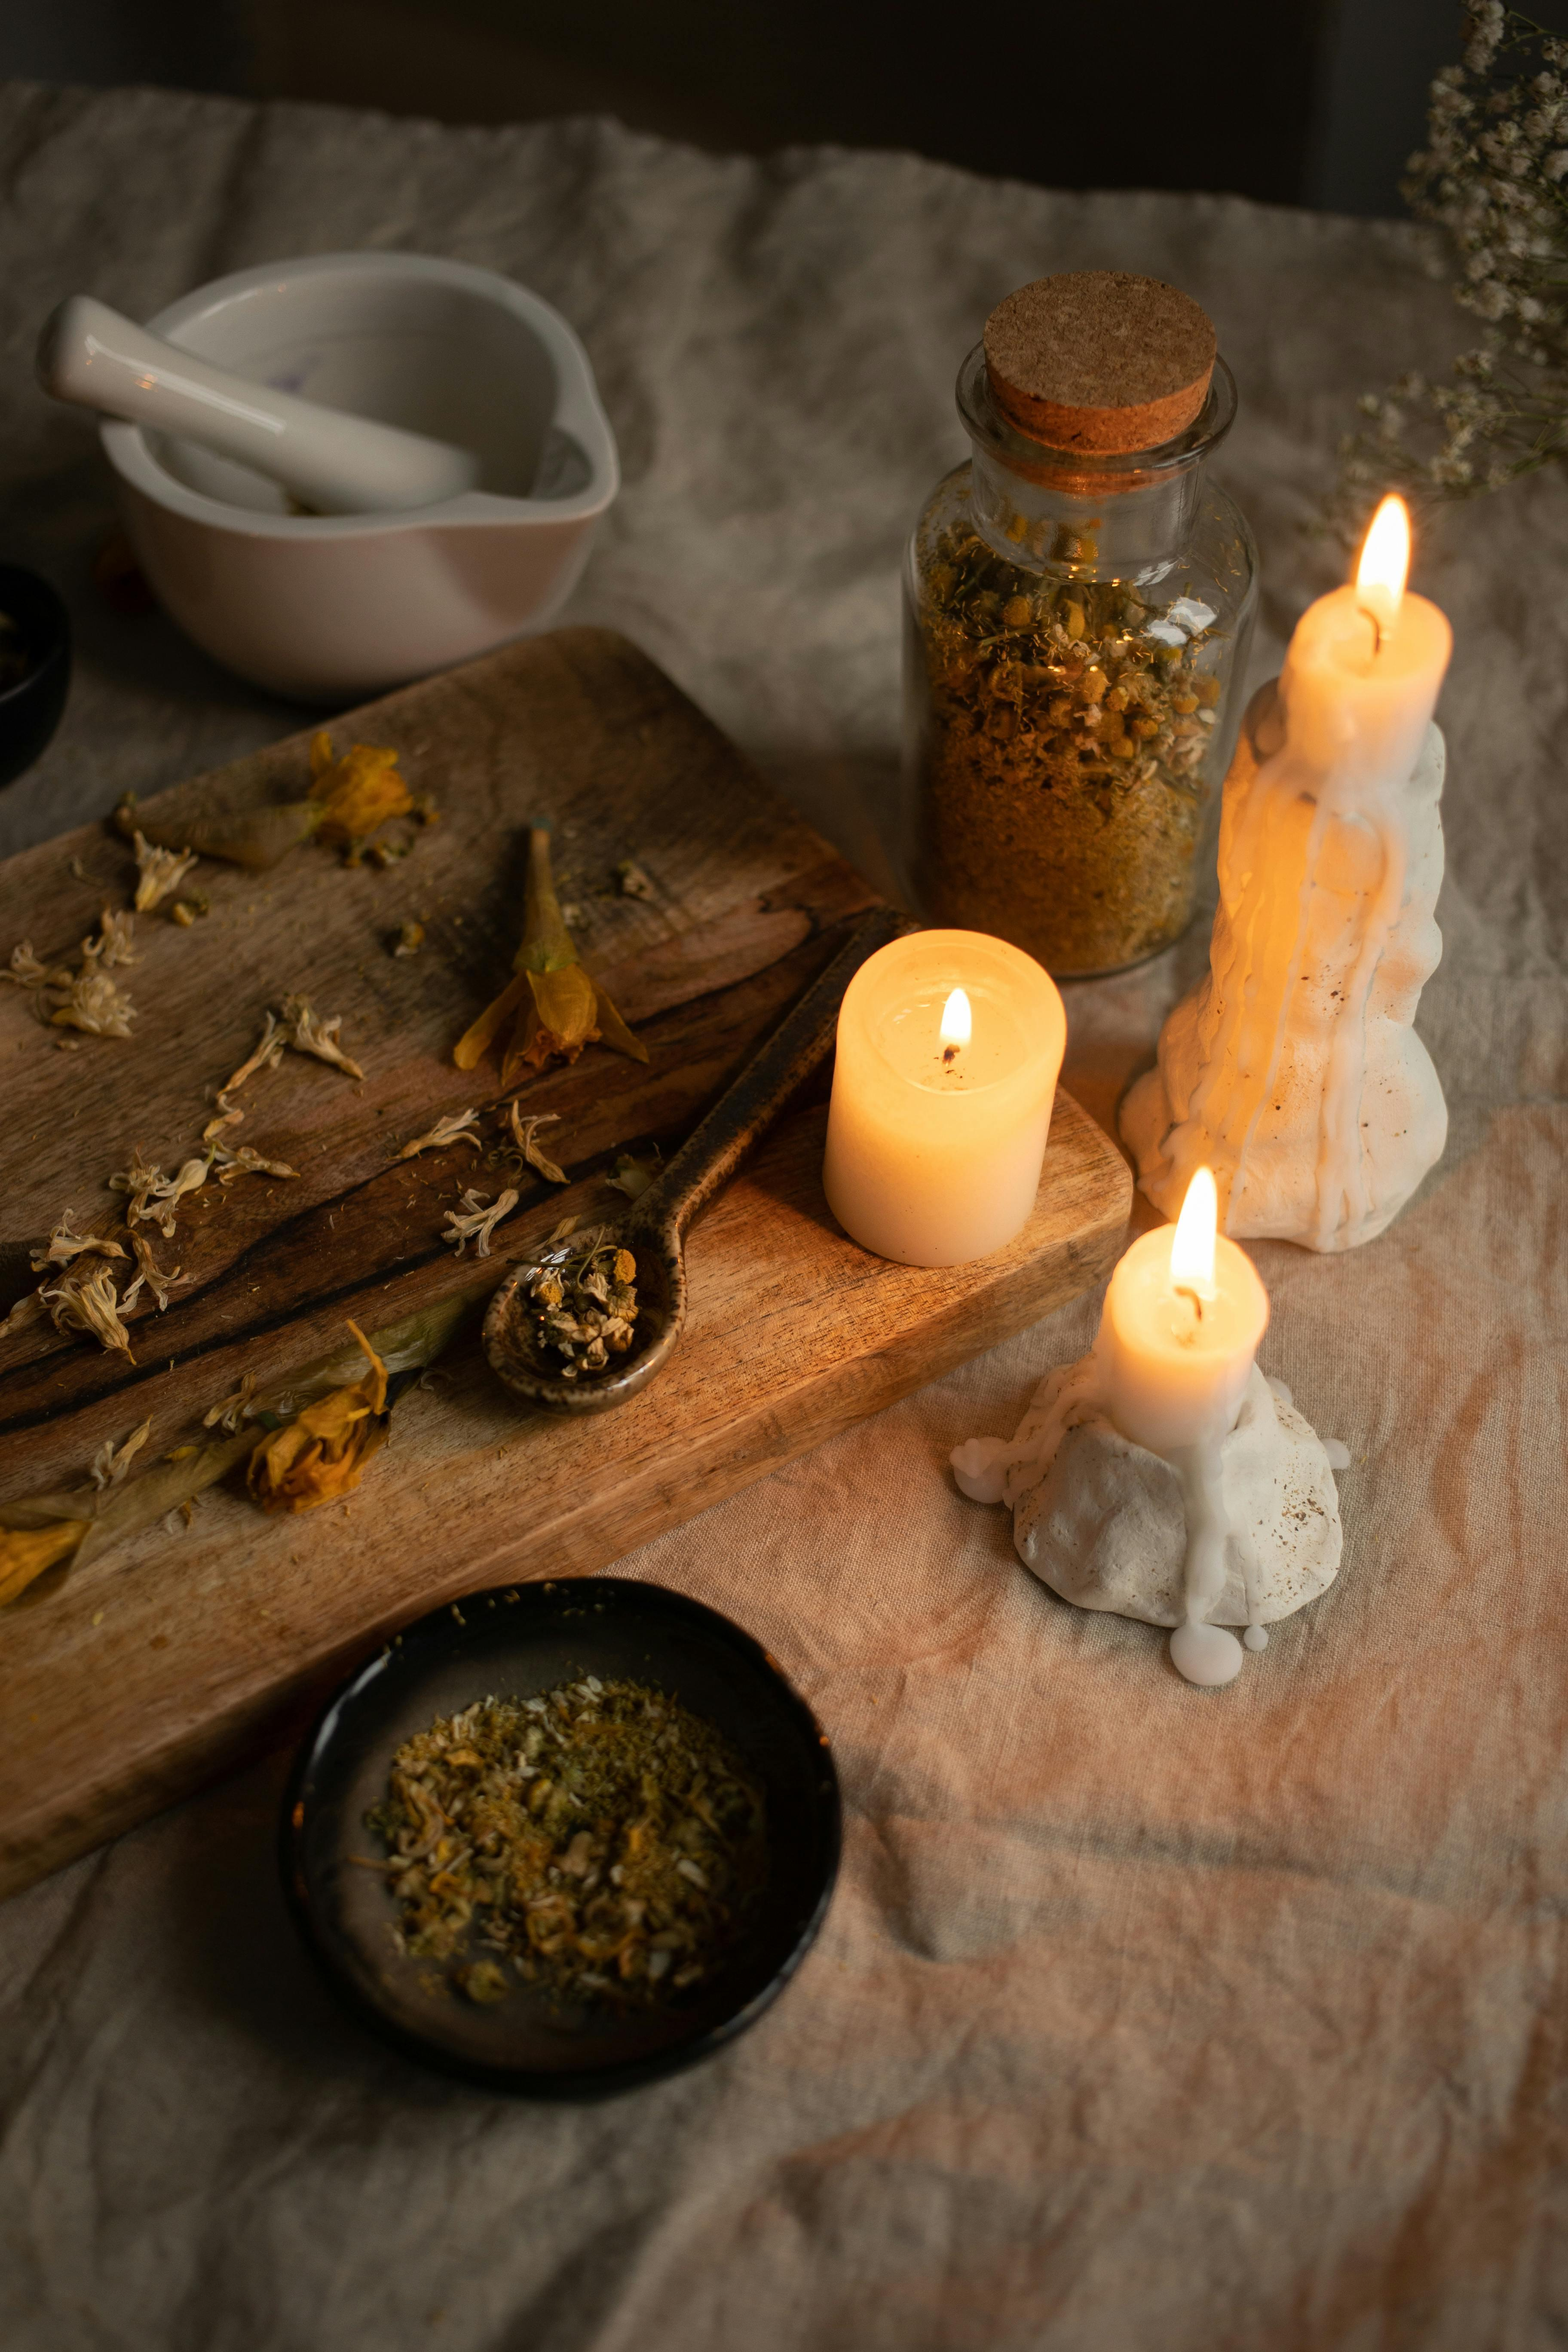Fire: (1157, 1153, 1256, 1330), (1342, 478, 1431, 639), (920, 968, 996, 1073)
